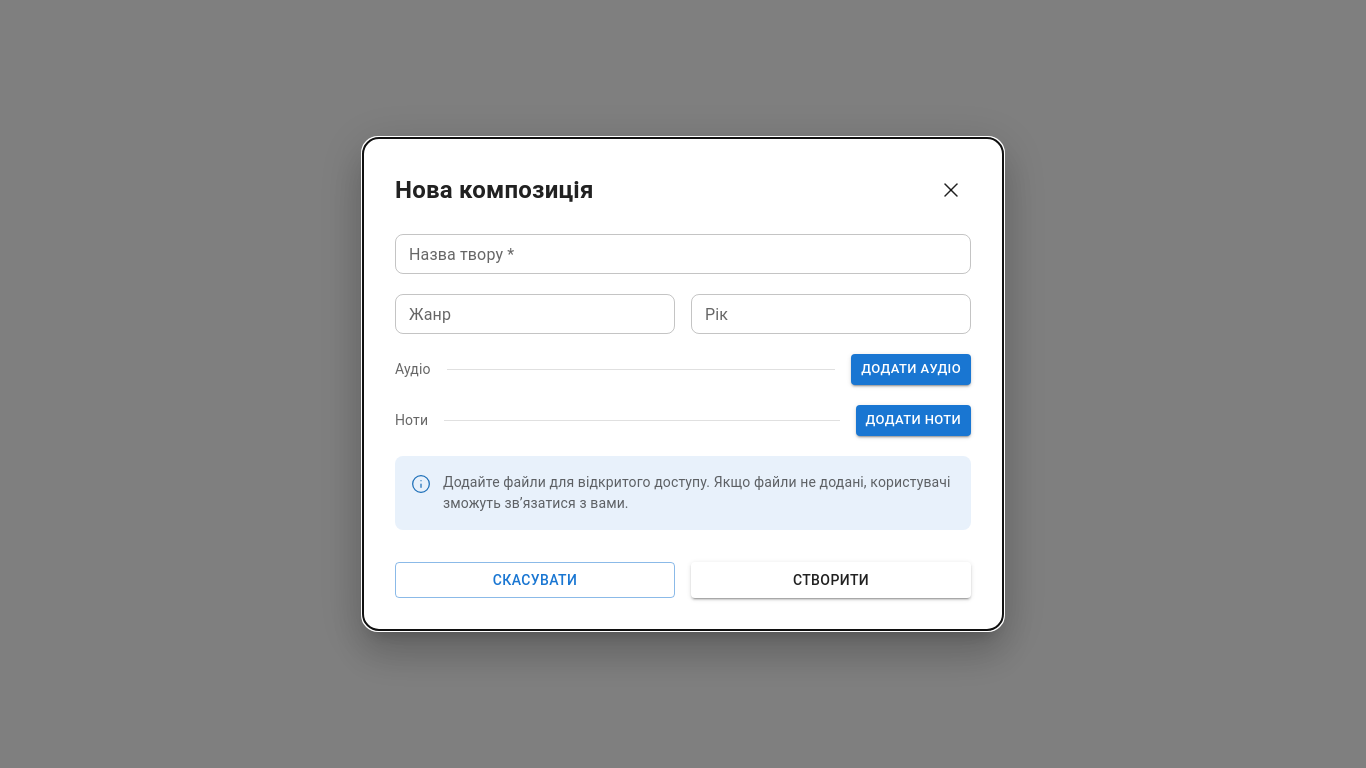
Test: CompositionModal › removes a note row using its delete button
Click the button "Додати ноти".
click(913, 420)  # box [856, 405, 971, 436]
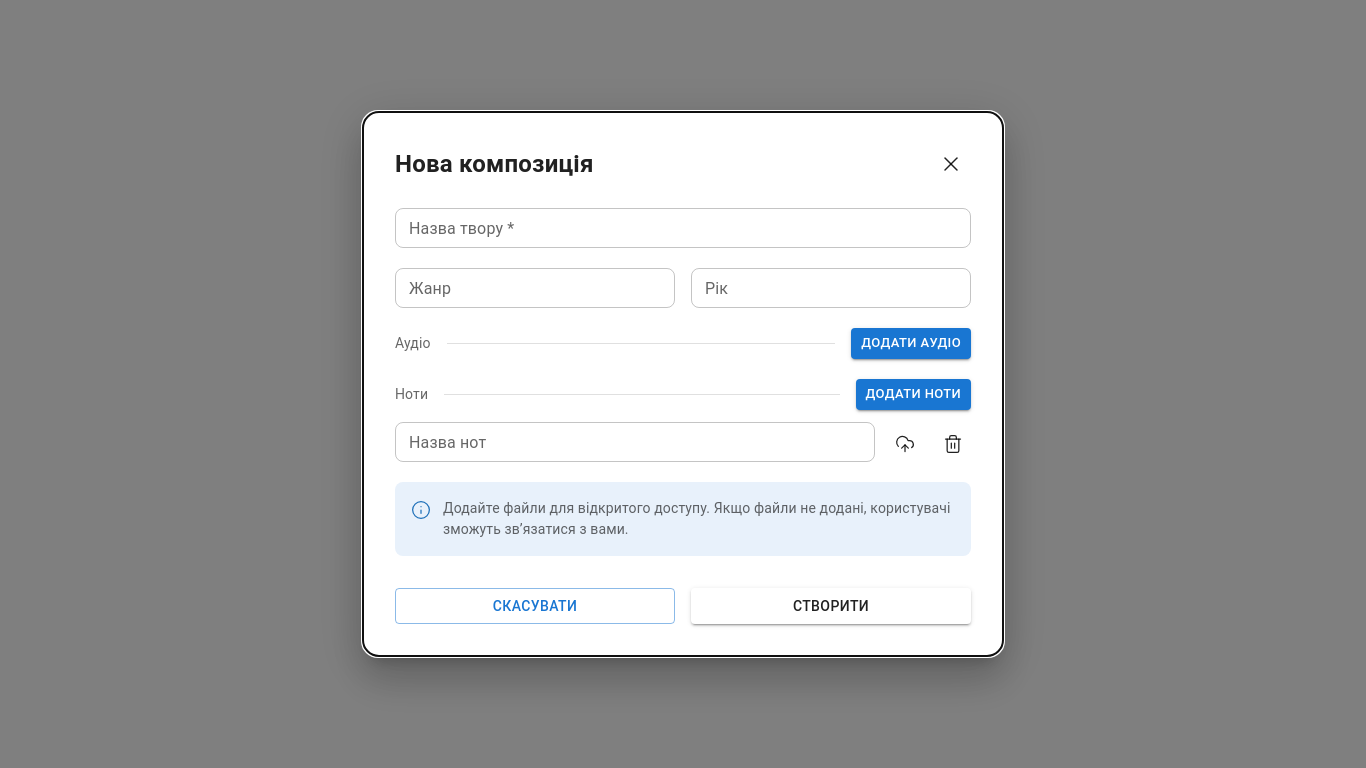
Now the field labelled "Назва нот" is shown, box [395, 422, 875, 462]
Click the button named "Видалити".
click(953, 444)  # box [935, 426, 971, 462]
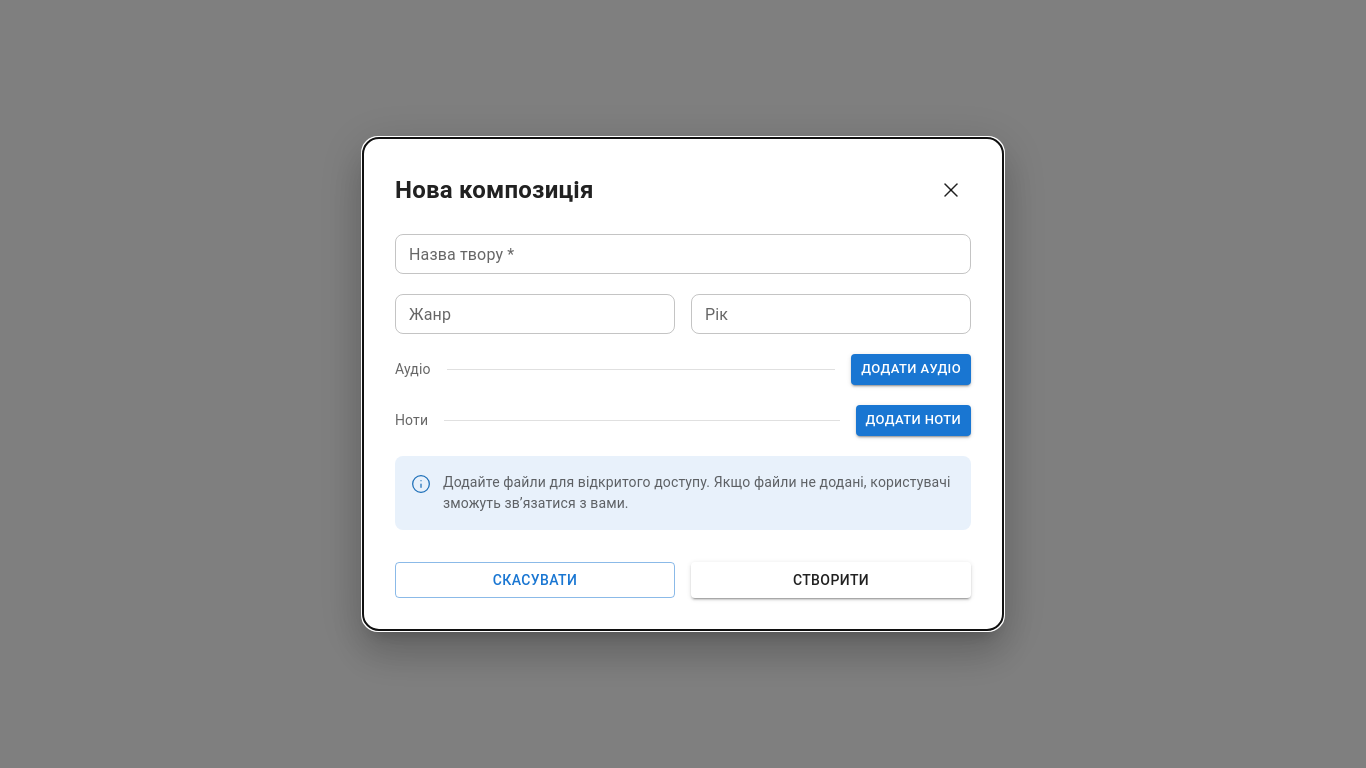
Now the label labelled "Назва нот" is gone
